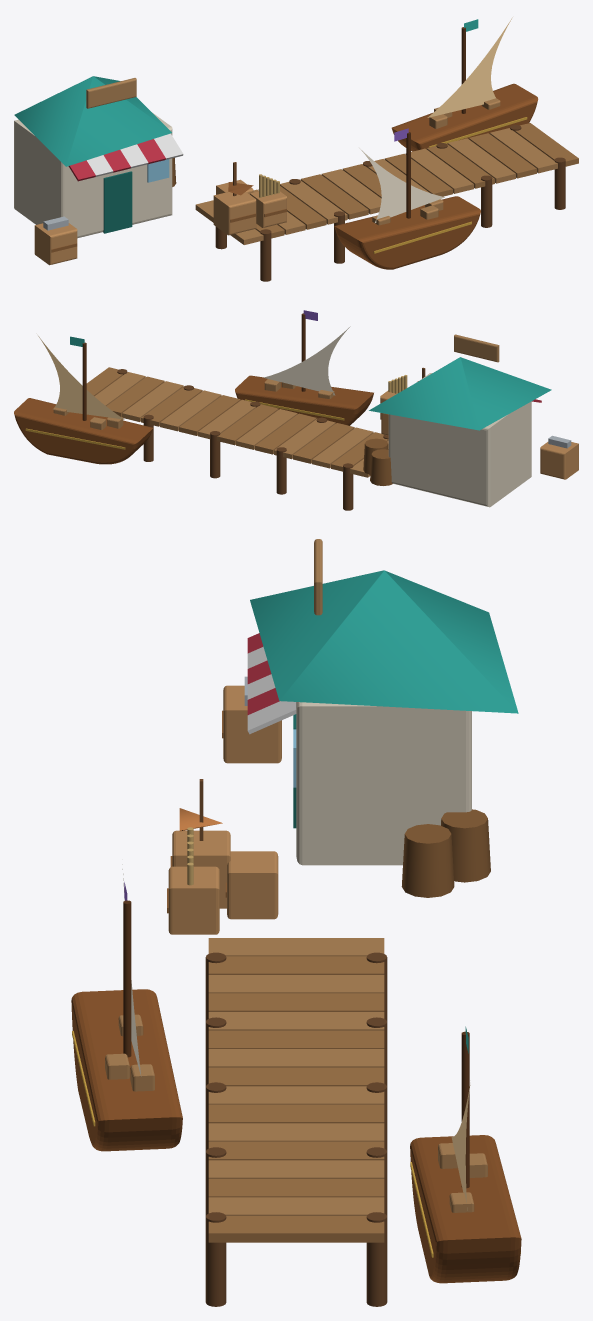
Rendered from harbor.glb.
The picture shows the model from 3 angles, top to bottom: view 1: azimuth 30°, elevation 25°; view 2: azimuth 150°, elevation 25°; view 3: azimuth 270°, elevation 25°; orthographic projection. The views are drawn at different scales.
Parts seen in each view (by area): view 1: part_000, part_002, part_006, part_007, part_003; view 2: part_000, part_006, part_002, part_003, part_007; view 3: part_000, part_002, part_006.
Boxes of the visible parts, x1=… form: part_000: x1=14, y1=76, x2=578, y2=281; part_002: x1=334, y1=132, x2=480, y2=269; part_006: x1=391, y1=27, x2=538, y2=151; part_007: x1=427, y1=17, x2=512, y2=117; part_003: x1=359, y1=148, x2=444, y2=222; part_000: x1=86, y1=334, x2=578, y2=510; part_006: x1=14, y1=342, x2=153, y2=464; part_002: x1=235, y1=313, x2=373, y2=425; part_003: x1=264, y1=326, x2=350, y2=395; part_007: x1=38, y1=336, x2=124, y2=419; part_000: x1=167, y1=539, x2=518, y2=1306; part_002: x1=71, y1=900, x2=182, y2=1151; part_006: x1=410, y1=1031, x2=521, y2=1283.
Size of the model in its own units: 15.66 by 5.6 by 6.16.
